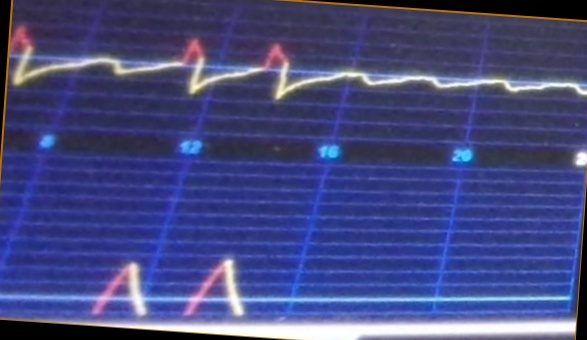Ineffective_effort Flow: (12, 15, 585, 119)
Ineffective_effort Volume: (47, 231, 308, 318)
